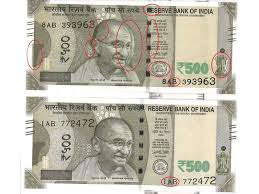fiveHundred: (36, 114, 217, 178), (37, 14, 216, 74)
